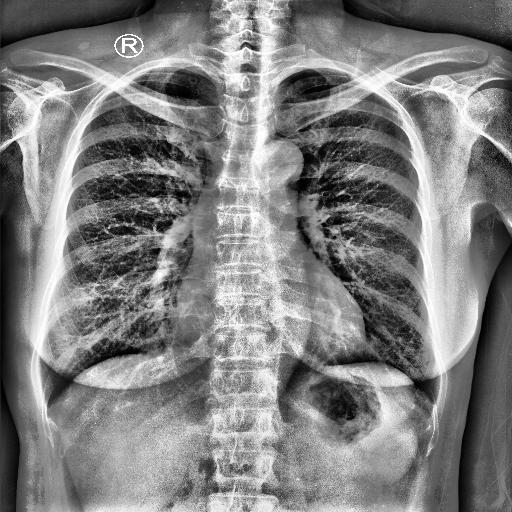0- Aortic enlargement: (250, 140, 302, 194), (250, 138, 306, 188), (259, 138, 304, 178)
